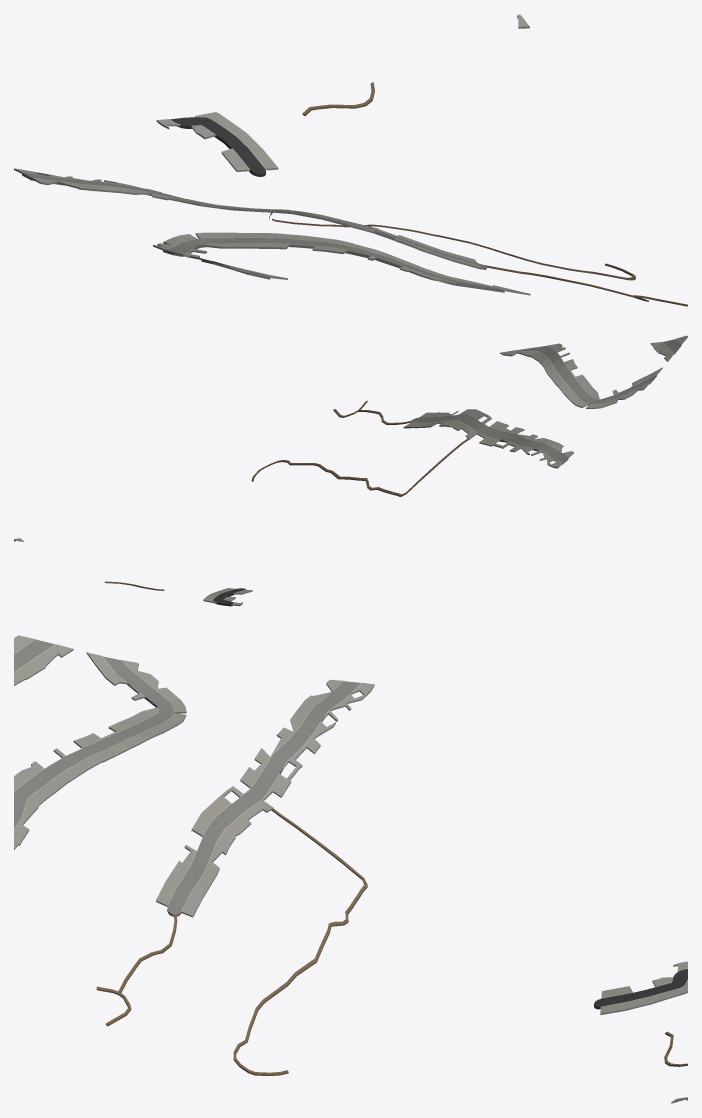
3 views of the same model, one above another, from view 1: azimuth 30°, elevation 25°; view 2: azimuth 150°, elevation 25°; view 3: azimuth 270°, elevation 25° (orthographic). The views are drawn at different scales.
Bounding box in the file's own units: 293 × 103 × 292.
